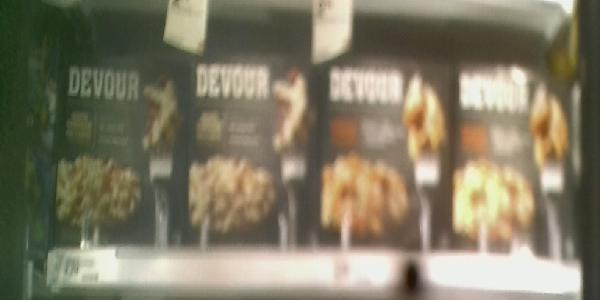pizza1: (318, 55, 455, 257), (187, 52, 317, 250), (52, 62, 186, 249), (457, 62, 583, 260)
